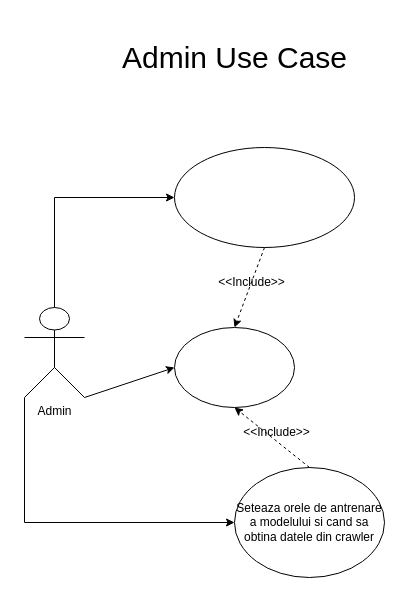
The diagram is 413 pixels wide and 595 high, and some of its shapes have lost their labels. Here are the shapes that lost their labels. From the top down, the centre of each, then its label:
[264,197]: Revizuire/Adaugare/Stergere date antrenament model
[234,367]: Login
